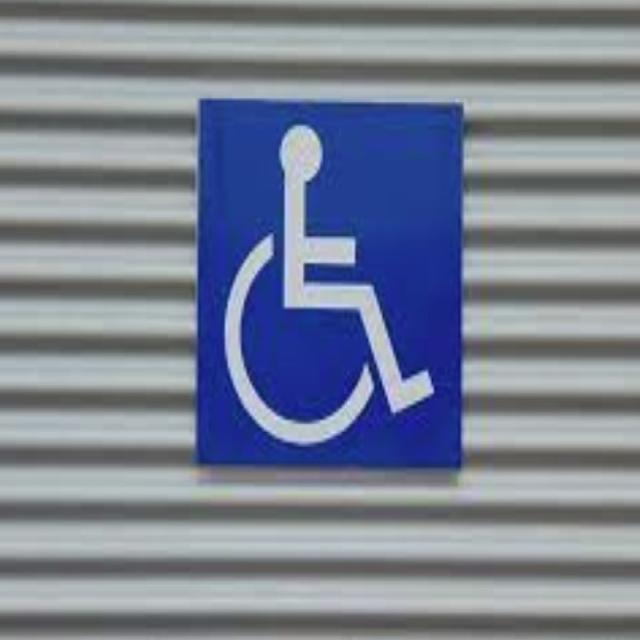symbol_of_access: (193, 96, 465, 472)
